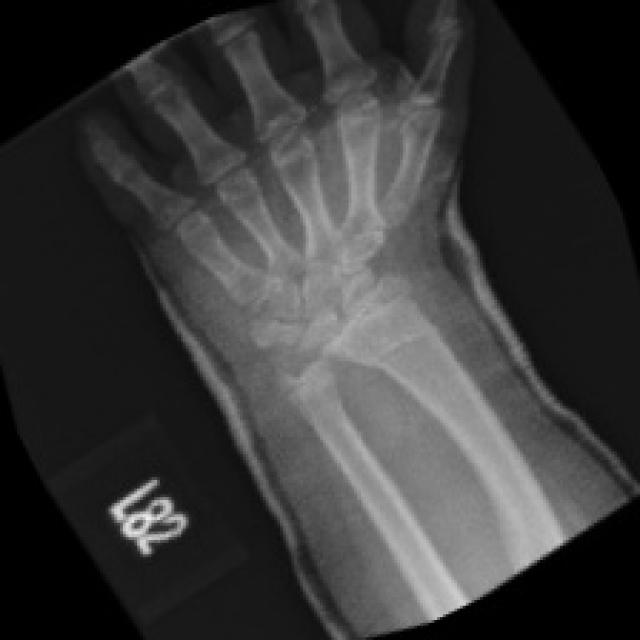fracture: (358, 320, 471, 389)
